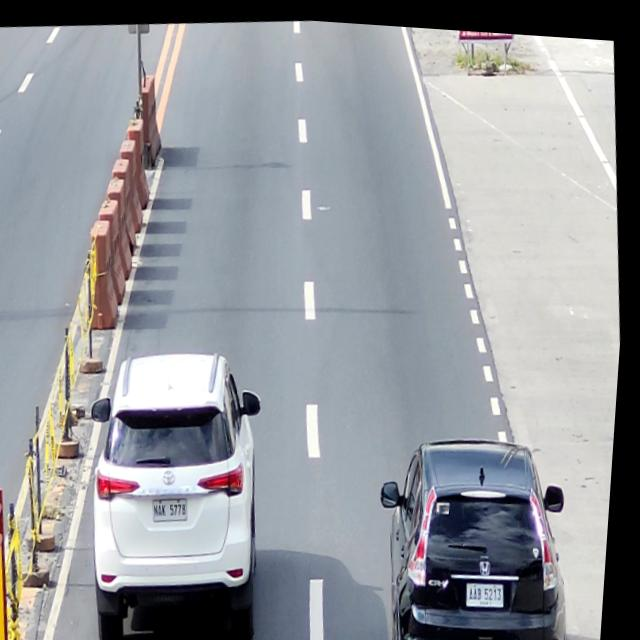Car: (78, 336, 292, 640), (372, 418, 587, 640)
License-Plate: (471, 570, 513, 602), (156, 491, 196, 520)
